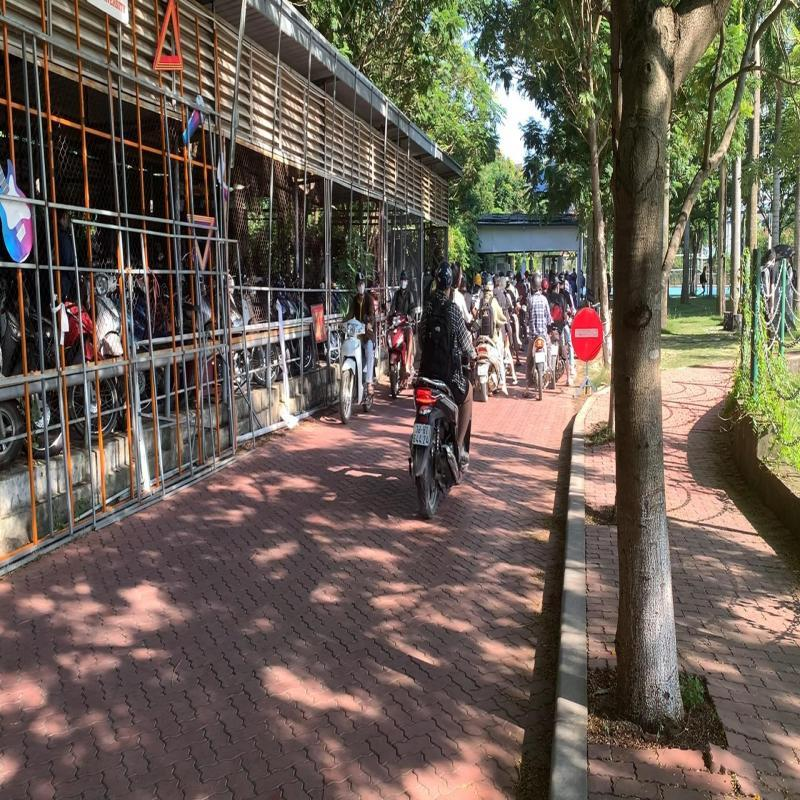helmet: (436, 261, 453, 289), (531, 274, 542, 292), (484, 275, 494, 292)
licenseplate: (411, 423, 432, 446), (535, 351, 546, 362), (478, 364, 488, 376)
motorcyclist: (408, 261, 477, 520), (476, 274, 510, 401), (524, 274, 553, 403)
